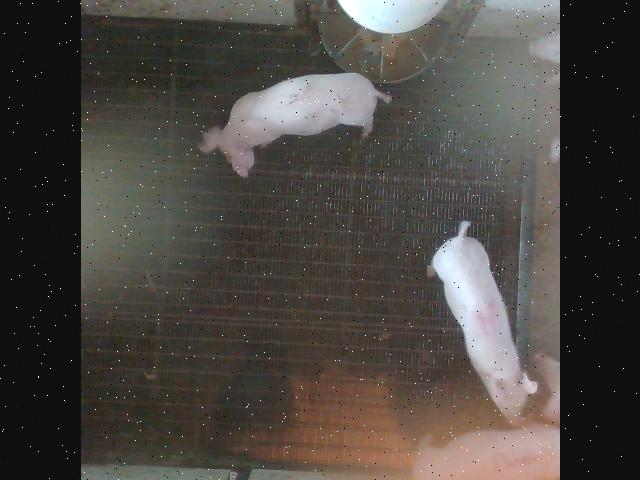pig-3: (411, 424, 559, 480)
pig-4: (431, 221, 536, 424)
